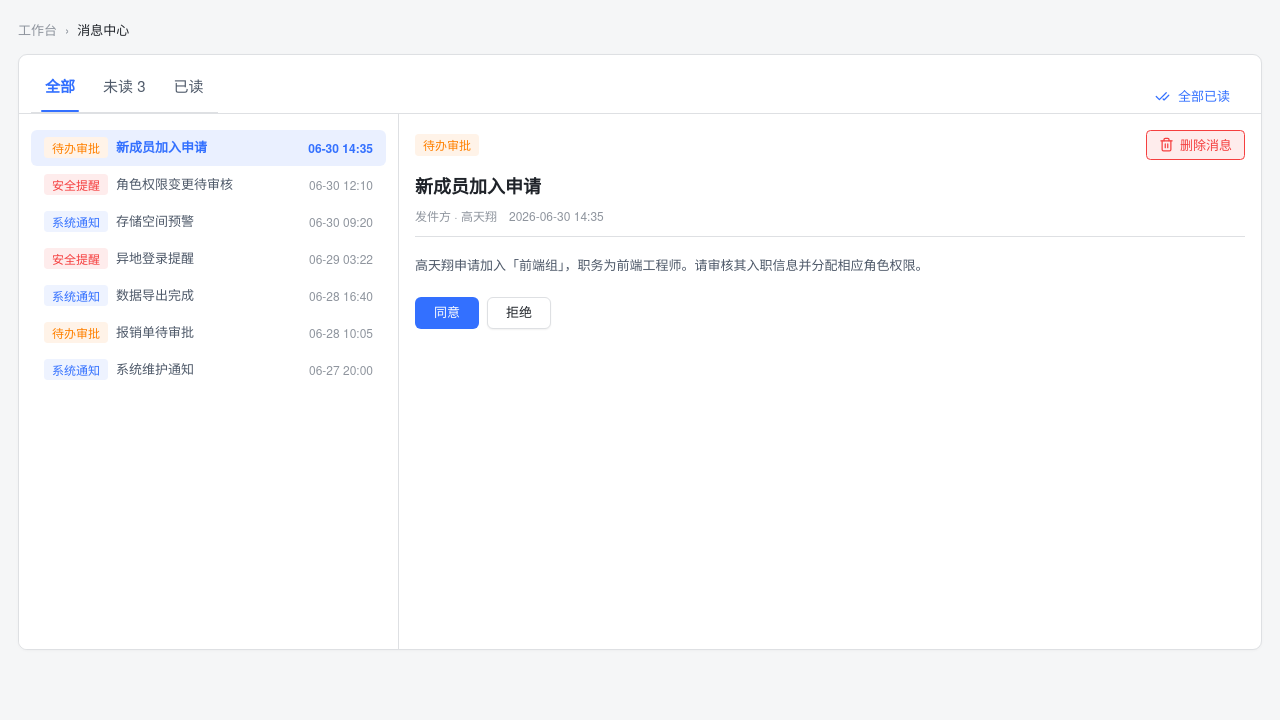
Test case: 未读筛选和全部已读形成可回读闭环
Expected: the button "待办审批 新成员加入申请 06-30 14:35" is shown, [31,130,386,166]
Click the tab "未读 3": x=124, y=93 [99,75,150,112]
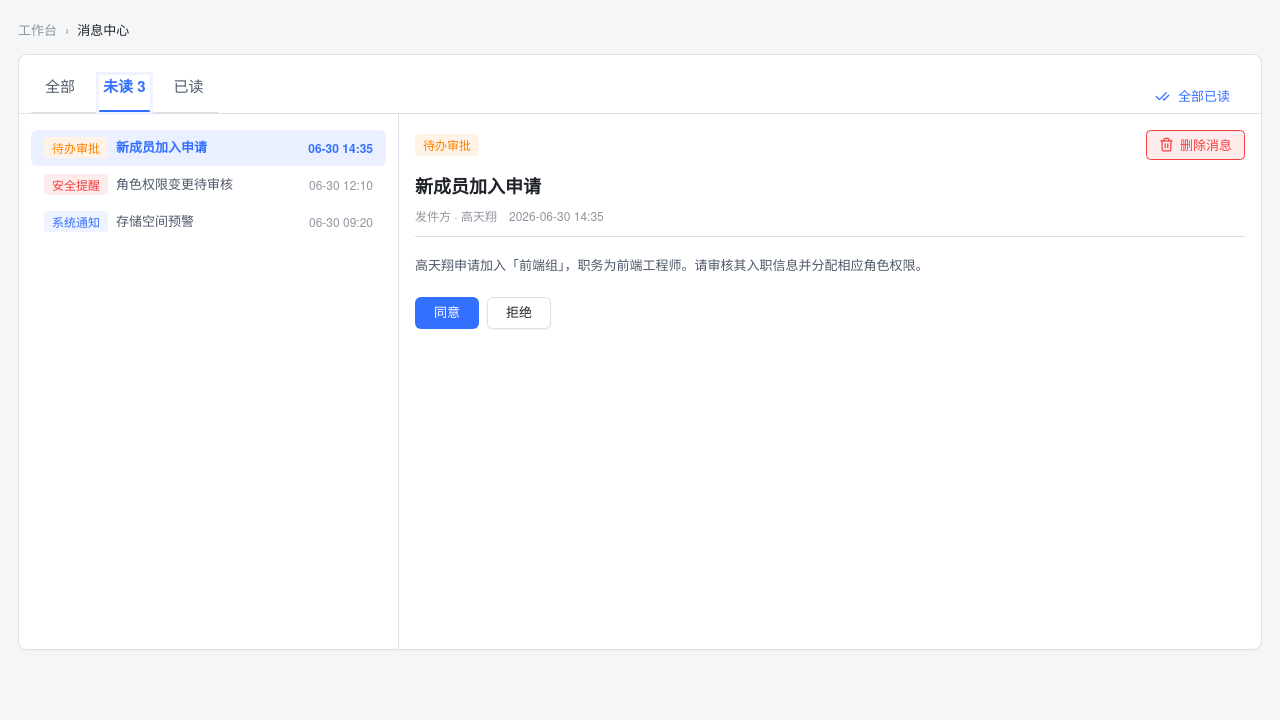
Expected: the button "系统通知 存储空间预警 06-30 09:20" is shown, [31,204,386,240]
Now the button "系统维护通知" is gone
Click the button "全部已读": x=1192, y=96 [1136,80,1249,112]
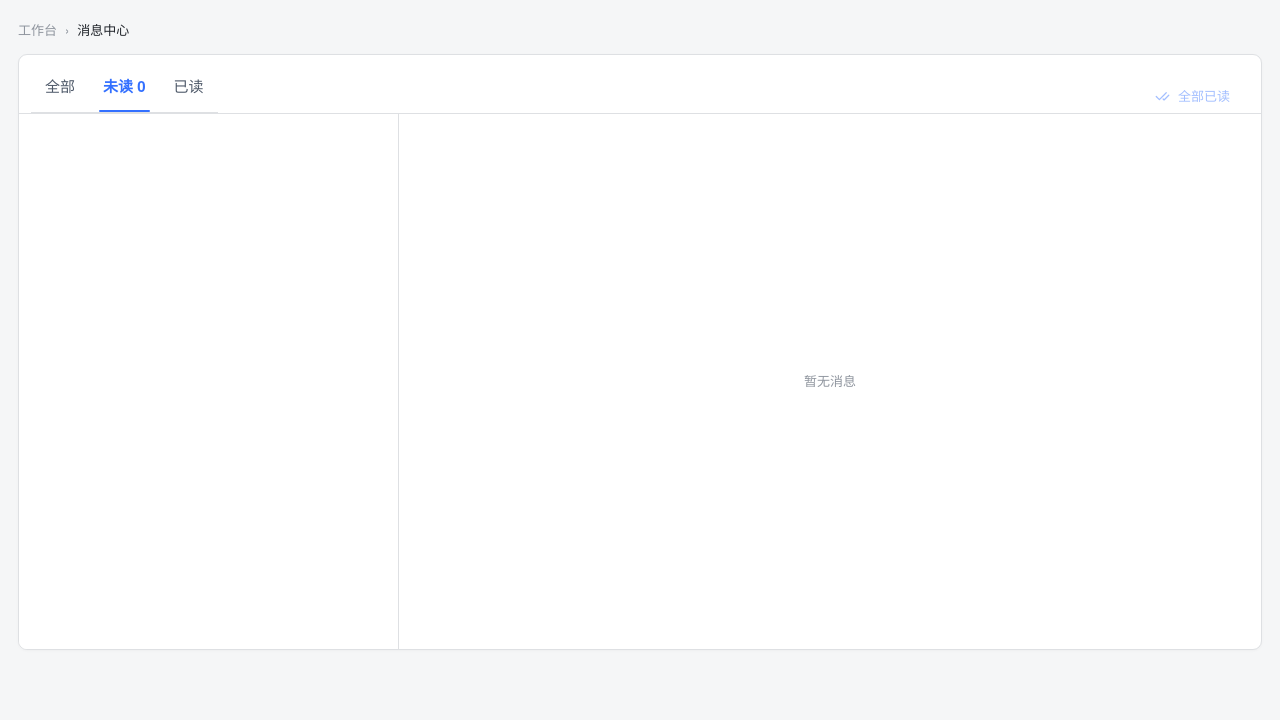
Now the button "新成员加入申请" is gone
Now the text "暂无消息" is shown, box [804,371,856,390]
